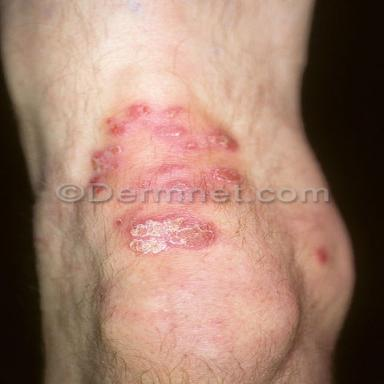Psoriasis: (130, 217, 216, 255), (108, 104, 151, 136), (90, 145, 123, 183), (184, 129, 238, 151), (156, 122, 185, 137), (212, 168, 241, 182), (156, 163, 188, 175), (165, 107, 182, 119)
